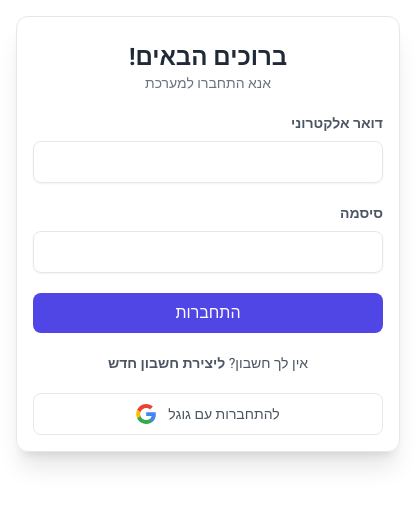
Test case: LoginForm › displays error message when Google login fails
Click the button "להתחברות עם גוגל": (208, 414) [33,393,383,435]
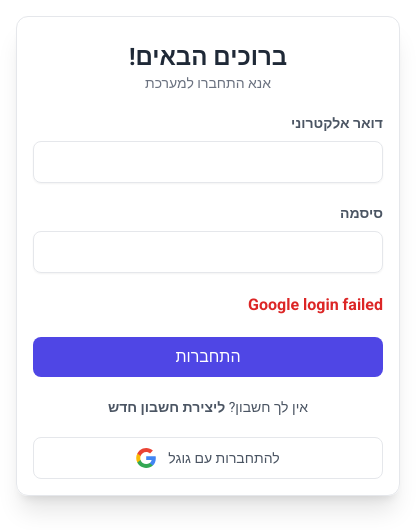
Now the text "Google login failed" is shown, box [248,295,383,314]
